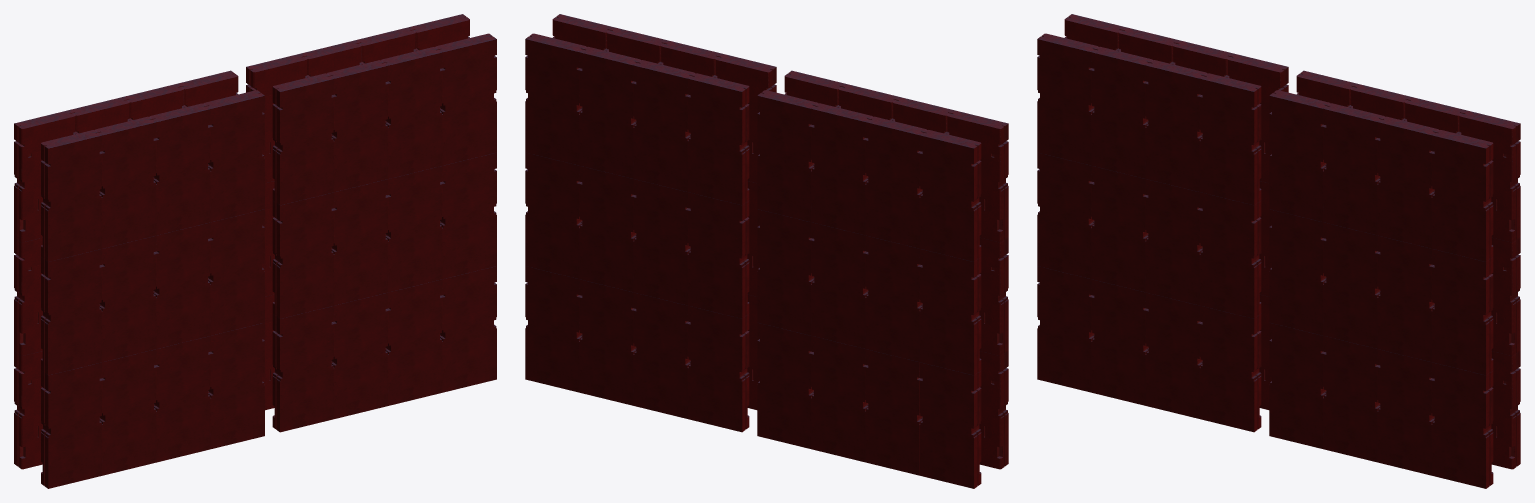
Rendered from Blame_Hall.fbx.
The picture shows the model from 3 angles, left to right: view 1: azimuth 30°, elevation 25°; view 2: azimuth 150°, elevation 25°; view 3: azimuth 330°, elevation 25°; orthographic projection.
Visible parts, largest first — view 1: mod_heavy_wall__43_, mod_heavy_wall__17_, mod_heavy_wall__27_, mod_heavy_wall__35_, mod_heavy_wall__11_, mod_heavy_wall__4_, mod_heavy_wall__21_, mod_heavy_wall__23_, mod_heavy_wall__45_, mod_heavy_wall__19_, mod_heavy_wall__47_, mod_heavy_wall__49_ (+24 smaller); view 2: mod_heavy_wall__48_, mod_heavy_wall__22_, mod_heavy_wall__32_, mod_heavy_wall__40_, mod_heavy_wall__14_, mod_heavy_wall__3_, mod_heavy_wall__20_, mod_heavy_wall__18_, mod_heavy_wall__44_, mod_heavy_wall__16_, mod_heavy_wall__42_, mod_heavy_wall__46_ (+24 smaller); view 3: mod_heavy_wall__23_, mod_heavy_wall__49_, mod_heavy_wall__7_, mod_heavy_wall__15_, mod_heavy_wall__41_, mod_heavy_wall__33_, mod_heavy_wall__47_, mod_heavy_wall__45_, mod_heavy_wall__19_, mod_heavy_wall__43_, mod_heavy_wall__17_, mod_heavy_wall__21_ (+24 smaller).
Boxes of the visible parts, bbox=[...] form: mod_heavy_wall__43_: bbox=[272, 73, 334, 205]; mod_heavy_wall__17_: bbox=[41, 130, 102, 261]; mod_heavy_wall__27_: bbox=[272, 192, 334, 318]; mod_heavy_wall__35_: bbox=[272, 306, 334, 432]; mod_heavy_wall__11_: bbox=[41, 362, 102, 488]; mod_heavy_wall__4_: bbox=[41, 249, 102, 375]; mod_heavy_wall__21_: bbox=[149, 103, 210, 235]; mod_heavy_wall__23_: bbox=[203, 90, 264, 222]; mod_heavy_wall__45_: bbox=[327, 60, 388, 191]; mod_heavy_wall__19_: bbox=[95, 116, 156, 248]; mod_heavy_wall__47_: bbox=[381, 47, 442, 178]; mod_heavy_wall__49_: bbox=[435, 33, 496, 165]; mod_heavy_wall__48_: bbox=[688, 73, 749, 205]; mod_heavy_wall__22_: bbox=[920, 130, 981, 261]; mod_heavy_wall__32_: bbox=[688, 192, 749, 318]; mod_heavy_wall__40_: bbox=[688, 305, 749, 432]; mod_heavy_wall__14_: bbox=[920, 362, 981, 488]; mod_heavy_wall__3_: bbox=[920, 249, 981, 375]; mod_heavy_wall__20_: bbox=[865, 116, 926, 248]; mod_heavy_wall__18_: bbox=[811, 103, 872, 235]; mod_heavy_wall__44_: bbox=[579, 46, 640, 178]; mod_heavy_wall__16_: bbox=[757, 90, 818, 221]; mod_heavy_wall__42_: bbox=[525, 33, 586, 165]; mod_heavy_wall__46_: bbox=[633, 60, 694, 191]; mod_heavy_wall__23_: bbox=[1200, 73, 1261, 205]; mod_heavy_wall__49_: bbox=[1432, 130, 1493, 261]; mod_heavy_wall__7_: bbox=[1200, 192, 1261, 318]; mod_heavy_wall__15_: bbox=[1200, 305, 1261, 432]; mod_heavy_wall__41_: bbox=[1432, 362, 1493, 488]; mod_heavy_wall__33_: bbox=[1432, 249, 1493, 375]; mod_heavy_wall__47_: bbox=[1377, 116, 1438, 248]; mod_heavy_wall__45_: bbox=[1323, 103, 1384, 235]; mod_heavy_wall__19_: bbox=[1091, 46, 1152, 178]; mod_heavy_wall__43_: bbox=[1269, 90, 1330, 221]; mod_heavy_wall__17_: bbox=[1037, 33, 1098, 165]; mod_heavy_wall__21_: bbox=[1145, 60, 1206, 191].
Size of the model in its own units: 82825 by 60000 by 10940.
1 material, 1 textured.
